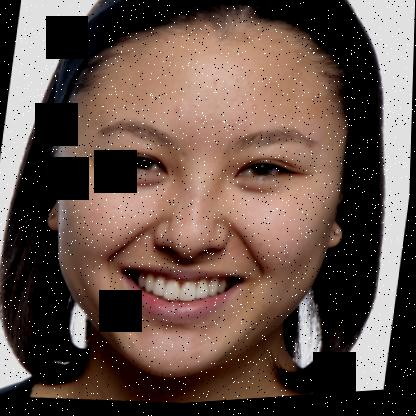Female: (29, 0, 370, 403)
